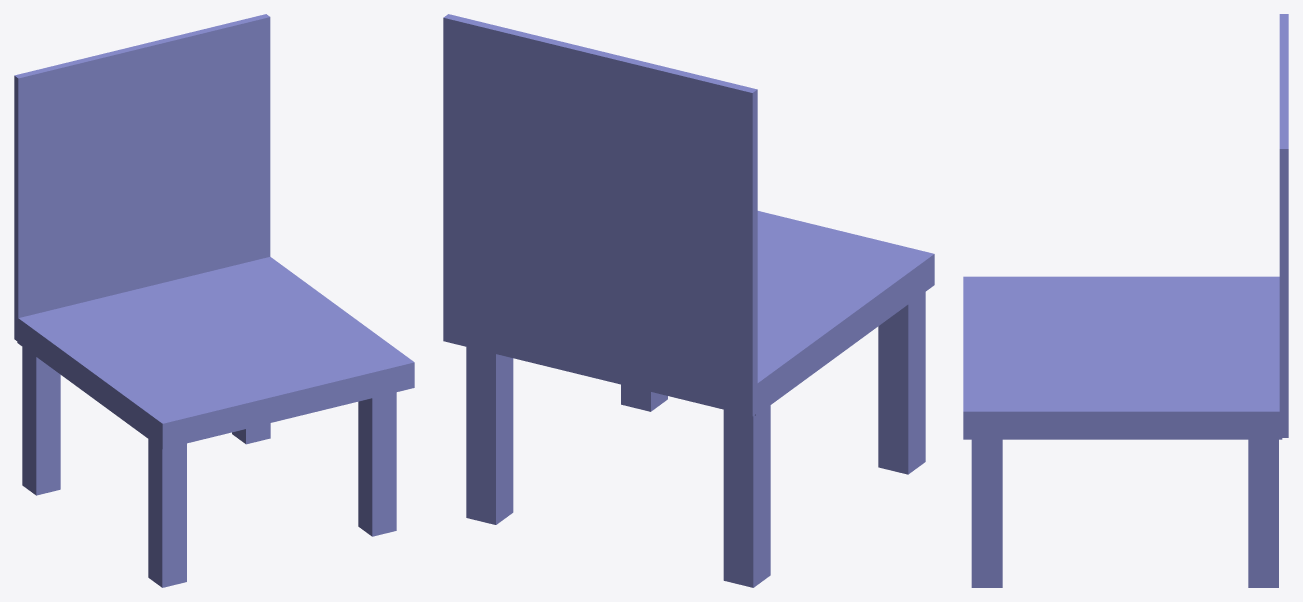
Rendered from silla.fbx.
3 views of the same model, side by side, from view 1: azimuth 30°, elevation 25°; view 2: azimuth 150°, elevation 25°; view 3: azimuth 270°, elevation 25° (orthographic). The views are drawn at different scales.
Parts seen in each view (by area): view 1: Silla; view 2: Silla; view 3: Silla.
Part boxes in pixels (x1=…): Silla: x1=14, y1=14, x2=414, y2=587; Silla: x1=443, y1=14, x2=934, y2=587; Silla: x1=963, y1=14, x2=1288, y2=587.
Size of the model in its own units: 568 by 878 by 580.
